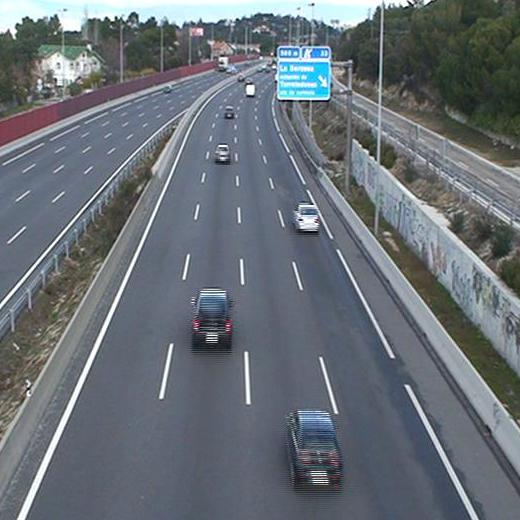car: (289, 410, 346, 489), (189, 288, 234, 349), (292, 203, 322, 232), (213, 143, 230, 163), (224, 106, 236, 118)
